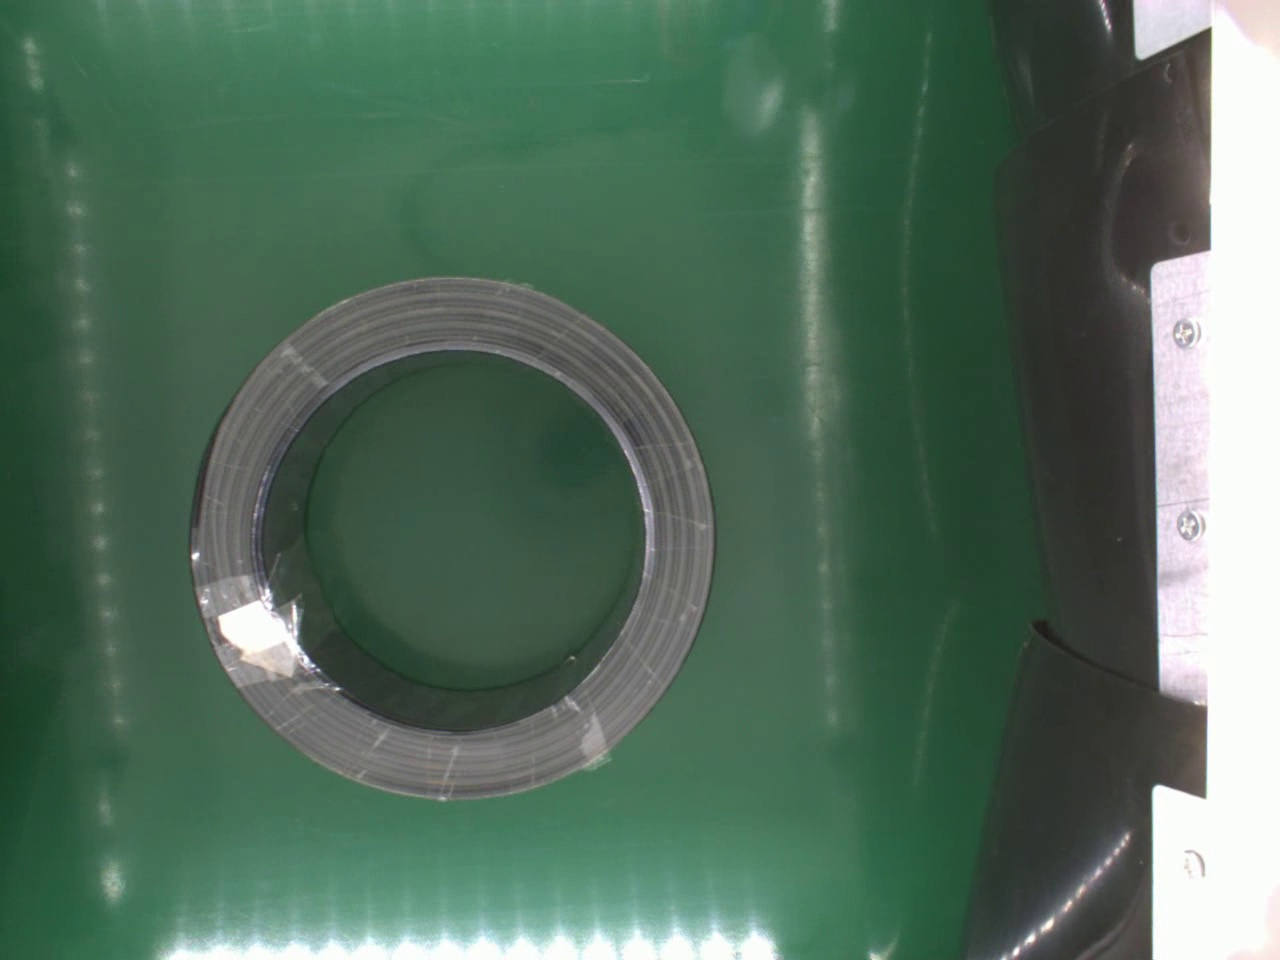black: (191, 278, 712, 806)
